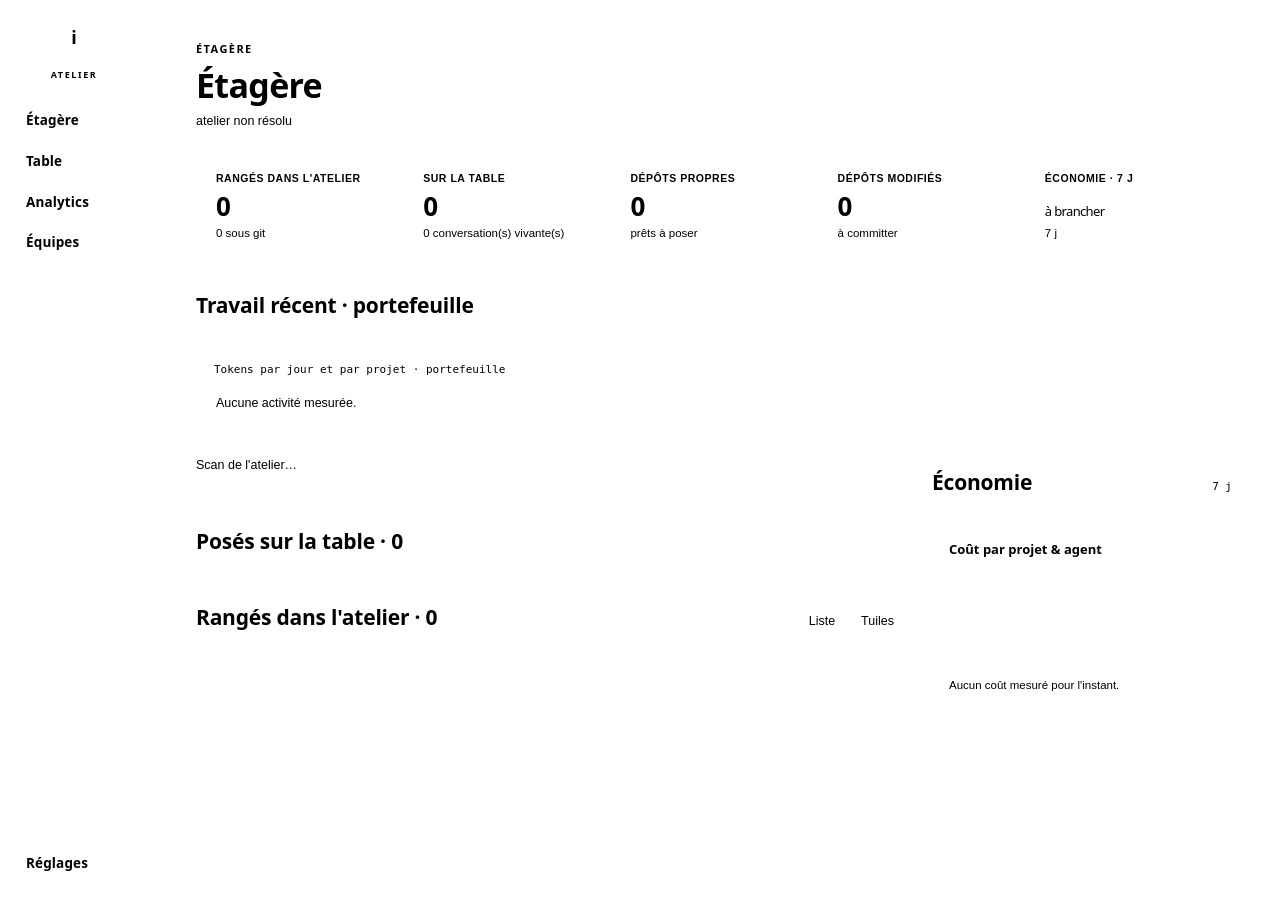
it: App — nav vers Analytics (L30-P1) › affiche la vue Analytics au clic du bouton de nav (Journal débranché-gardé)
Expected: the heading "Performance de l'équipe" is not shown
What coordinates should you click on to do the following:
click the button "Analytics"
I would click on:
 (74, 202)
Its box is [12,184,136,220].
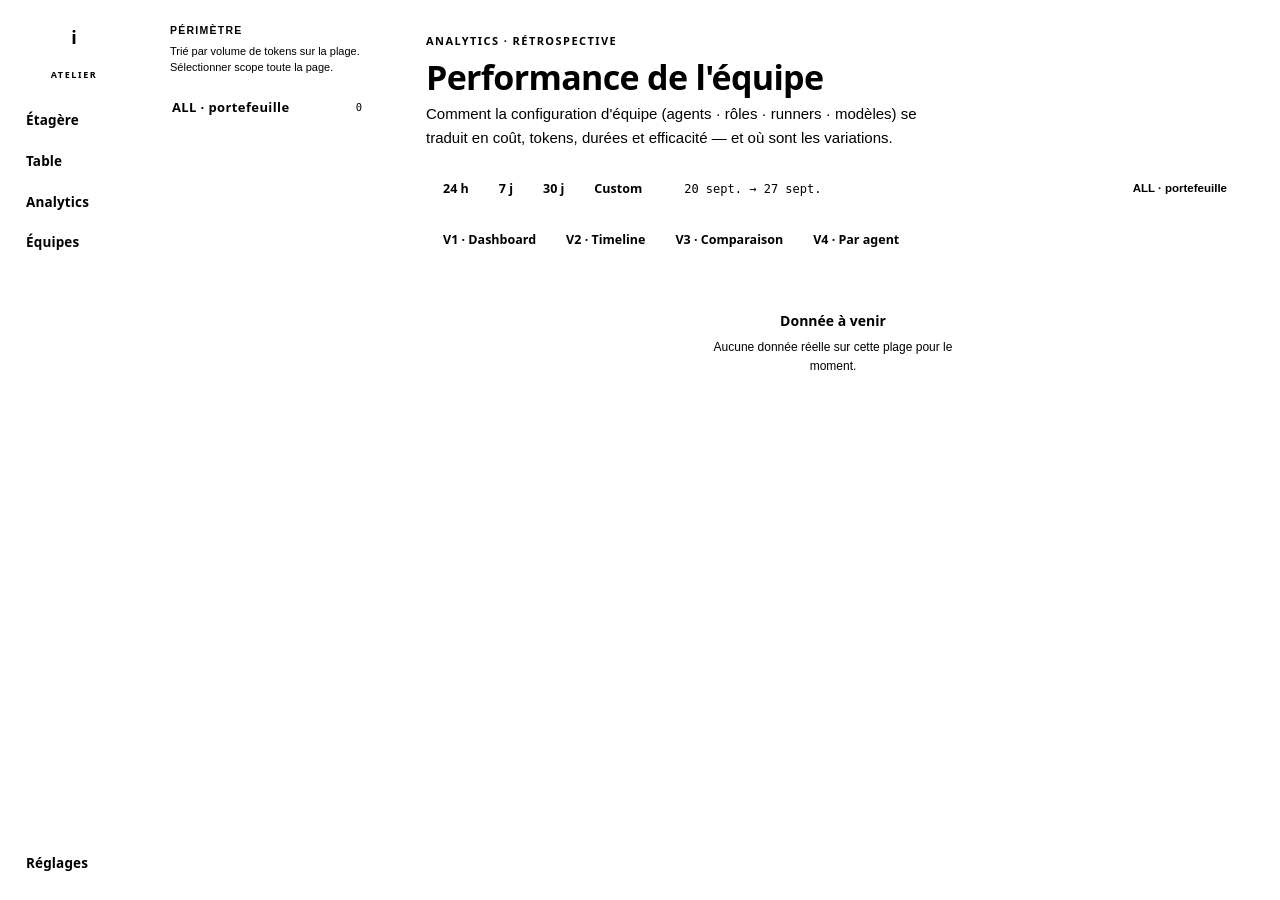
Expected: the heading "Performance de l'équipe" is shown, [426,54,823,100]
Expected: the element "Périmètre" is shown, [162,24,372,137]
